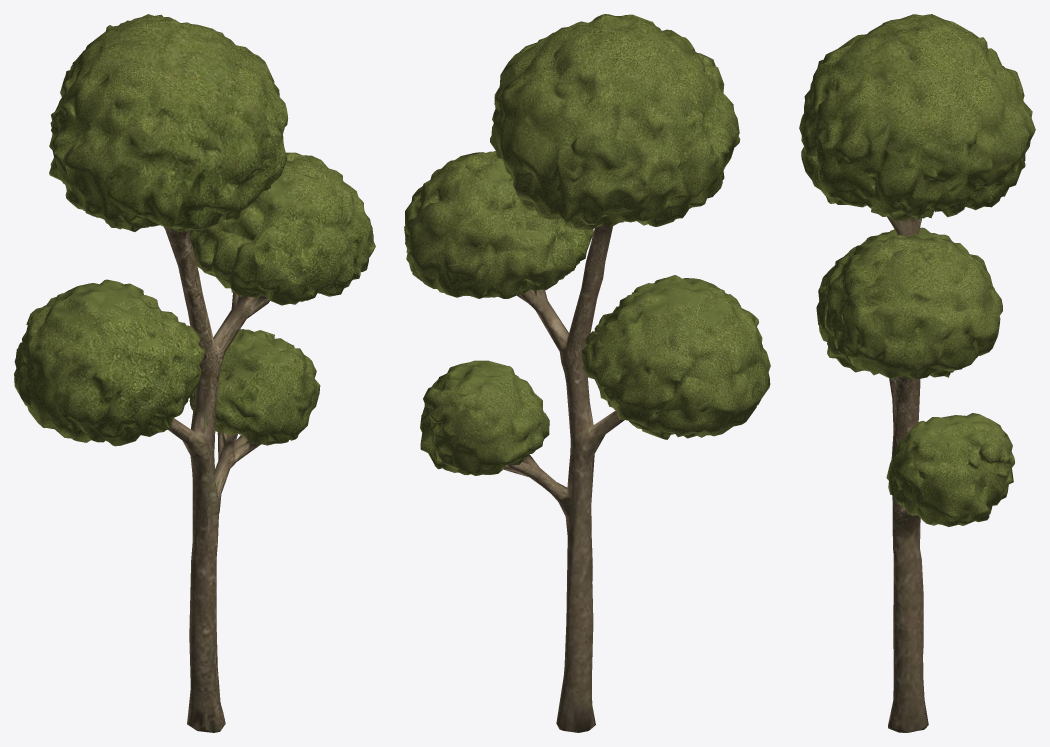
File: roble_joven_alto.glb
3 views of the same model, side by side, from view 1: azimuth 30°, elevation 25°; view 2: azimuth 150°, elevation 25°; view 3: azimuth 270°, elevation 25° (orthographic). The views are drawn at different scales.
Parts seen in each view (by area): view 1: alto; view 2: alto; view 3: alto.
Part boxes in pixels (x1,y1,x2,y2): alto: [14, 14, 375, 732]; alto: [404, 14, 770, 732]; alto: [799, 14, 1035, 732].
Size of the model in its own units: 2.01 by 4 by 1.26.
Materials: 1 (1 with a texture image).
